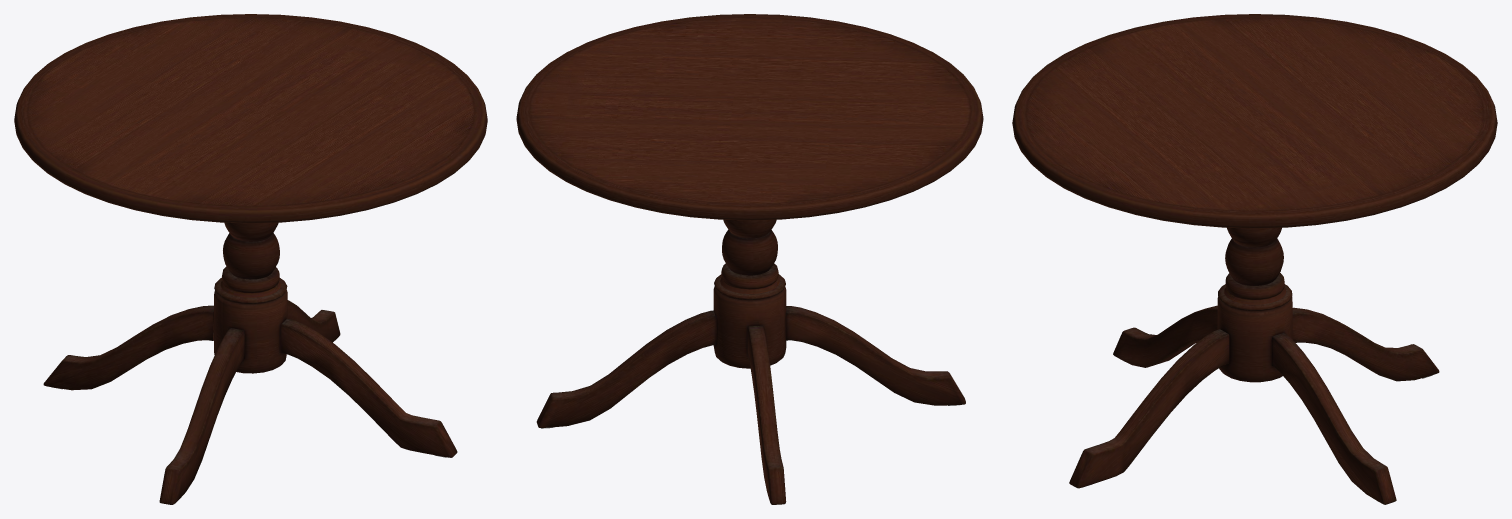
3 renders of one model, left to right at view 1: azimuth 30°, elevation 25°; view 2: azimuth 150°, elevation 25°; view 3: azimuth 270°, elevation 25°, orthographic. The views are drawn at different scales.
Visible parts, largest first — view 1: round_wooden_table_01; view 2: round_wooden_table_01; view 3: round_wooden_table_01.
Part boxes in pixels (bbox=[...]): round_wooden_table_01: bbox=[14, 14, 487, 504]; round_wooden_table_01: bbox=[516, 14, 983, 504]; round_wooden_table_01: bbox=[1012, 14, 1497, 504].
Bounding box in the file's own units: 1.4 × 1 × 1.4.
Materials: 1 (1 with a texture image).
